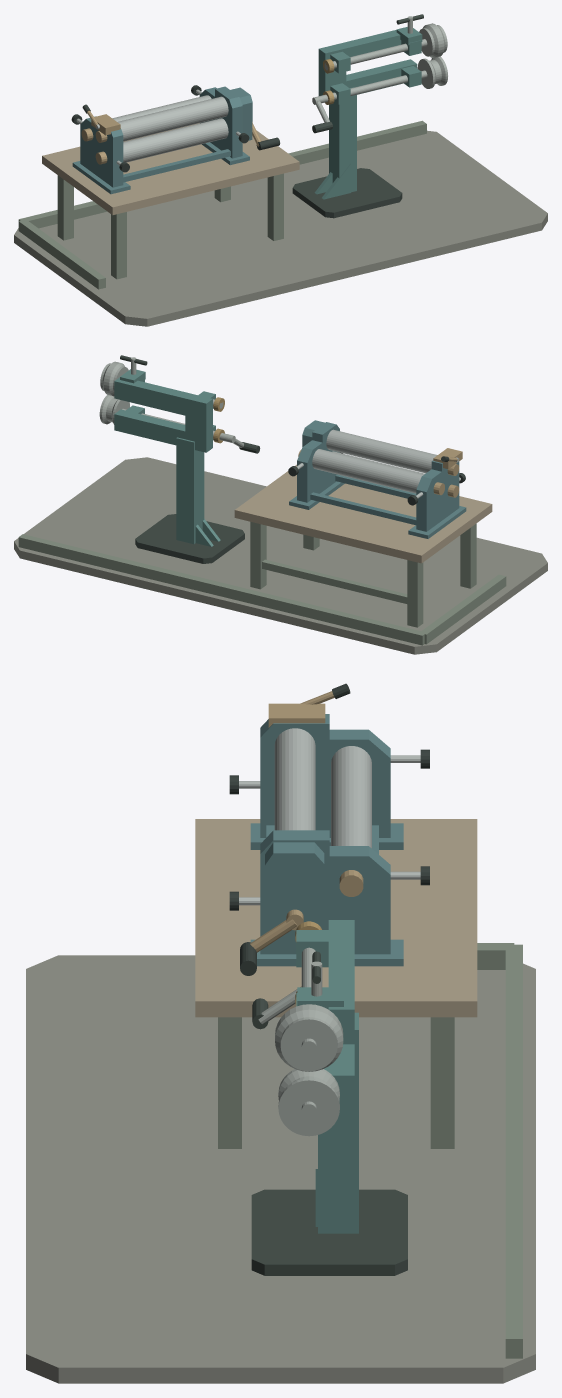
3 renders of one model, top to bottom at view 1: azimuth 30°, elevation 25°; view 2: azimuth 150°, elevation 25°; view 3: azimuth 270°, elevation 25°, orthographic. The views are drawn at different scales.
Visible parts, largest first — view 1: WholeChamferedFormingCornerFloor, WholeRaisedSlipRollerBenchTop, BeadFormer__WholeChamferedPedestalBase, BeadFormer__WholeLongHorizontalOpenThroatFrame, SlipRoller__WholeFullWidthUpperFrontRoll, SlipRoller__WholeFullWidthLowerFrontRoll, BeadFormer__WholeUprightPedestal, WholeLowRearBoundaryCurb, SlipRoller__WholeShapedEndCheek-1, WholeLowLeftBoundaryCurb, SlipRoller__WholeShapedEndCheek1, WholeSlipRollerBenchLeg1_0 (+12 smaller); view 2: WholeChamferedFormingCornerFloor, WholeRaisedSlipRollerBenchTop, WholeLowRearBoundaryCurb, BeadFormer__WholeLongHorizontalOpenThroatFrame, BeadFormer__WholeUprightPedestal, BeadFormer__WholeChamferedPedestalBase, SlipRoller__WholeFullWidthRearOffsetRoll, SlipRoller__WholeFullWidthUpperFrontRoll, SlipRoller__WholeShapedEndCheek-1, SlipRoller__WholeShapedEndCheek1, WholeLowRearBenchStretcher, WholeLowLeftBoundaryCurb (+9 smaller); view 3: WholeChamferedFormingCornerFloor, WholeRaisedSlipRollerBenchTop, BeadFormer__WholeChamferedPedestalBase, SlipRoller__WholeShapedEndCheek1, WholeLowRearBoundaryCurb, SlipRoller__WholeShapedEndCheek-1, BeadFormer__WholeUprightPedestal, SlipRoller__WholeRightFrontGearCover, SlipRoller__WholeFullWidthUpperFrontRoll, SlipRoller__WholeFullWidthRearOffsetRoll, BeadFormer__WholeLongHorizontalOpenThroatFrame, BeadFormer__WholeRaisedBeadUpperFormRoll (+9 smaller).
Boxes of the visible parts, left/top/right/bottom form: WholeChamferedFormingCornerFloor: left=14, top=130, right=547, bottom=326; WholeRaisedSlipRollerBenchTop: left=42, top=123, right=299, bottom=215; BeadFormer__WholeChamferedPedestalBase: left=292, top=168, right=402, bottom=218; BeadFormer__WholeLongHorizontalOpenThroatFrame: left=318, top=30, right=417, bottom=95; SlipRoller__WholeFullWidthUpperFrontRoll: left=117, top=96, right=228, bottom=141; SlipRoller__WholeFullWidthLowerFrontRoll: left=123, top=118, right=228, bottom=162; BeadFormer__WholeUprightPedestal: left=329, top=87, right=356, bottom=192; WholeLowRearBoundaryCurb: left=18, top=120, right=426, bottom=228; SlipRoller__WholeShapedEndCheek-1: left=80, top=116, right=123, bottom=187; WholeLowLeftBoundaryCurb: left=18, top=220, right=105, bottom=289; SlipRoller__WholeShapedEndCheek1: left=199, top=86, right=242, bottom=158; WholeSlipRollerBenchLeg1_0: left=267, top=173, right=283, bottom=240; WholeChamferedFormingCornerFloor: left=14, top=457, right=547, bottom=654; WholeRaisedSlipRollerBenchTop: left=234, top=464, right=492, bottom=563; WholeLowRearBoundaryCurb: left=18, top=534, right=426, bottom=645; BeadFormer__WholeLongHorizontalOpenThroatFrame: left=114, top=377, right=212, bottom=452; BeadFormer__WholeUprightPedestal: left=176, top=437, right=204, bottom=544; BeadFormer__WholeChamferedPedestalBase: left=135, top=514, right=244, bottom=563; SlipRoller__WholeFullWidthRearOffsetRoll: left=312, top=449, right=423, bottom=493; SlipRoller__WholeFullWidthUpperFrontRoll: left=326, top=429, right=437, bottom=473; SlipRoller__WholeShapedEndCheek-1: left=416, top=460, right=459, bottom=531; SlipRoller__WholeShapedEndCheek1: left=297, top=422, right=339, bottom=502; WholeLowRearBenchStretcher: left=262, top=559, right=407, bottom=603; WholeLowLeftBoundaryCurb: left=421, top=574, right=506, bottom=644; WholeChamferedFormingCornerFloor: left=26, top=955, right=535, bottom=1383; WholeRaisedSlipRollerBenchTop: left=195, top=819, right=477, bottom=1017; BeadFormer__WholeChamferedPedestalBase: left=251, top=1189, right=407, bottom=1275; SlipRoller__WholeShapedEndCheek1: left=260, top=830, right=390, bottom=954; WholeLowRearBoundaryCurb: left=505, top=944, right=522, bottom=1358; SlipRoller__WholeShapedEndCheek-1: left=260, top=714, right=390, bottom=837; BeadFormer__WholeUprightPedestal: left=318, top=1012, right=358, bottom=1233; SlipRoller__WholeRightFrontGearCover: left=265, top=842, right=324, bottom=940; SlipRoller__WholeFullWidthUpperFrontRoll: left=274, top=728, right=315, bottom=830; SlipRoller__WholeFullWidthRearOffsetRoll: left=331, top=746, right=371, bottom=848; BeadFormer__WholeLongHorizontalOpenThroatFrame: left=328, top=920, right=354, bottom=1107; BeadFormer__WholeRaisedBeadUpperFormRoll: left=275, top=1004, right=343, bottom=1071.
Size of the model in its own units: 4.5 by 1.77 by 2.35.
